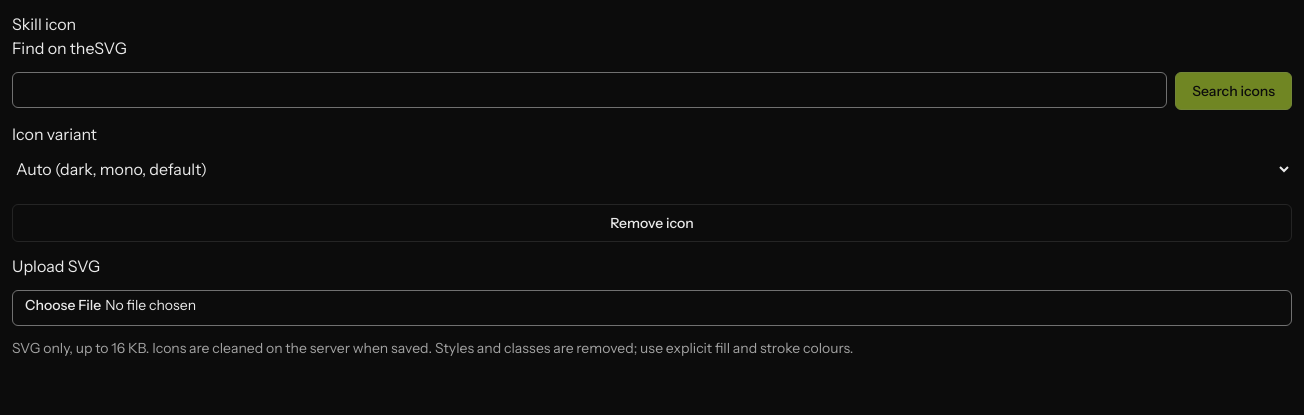
Test: lets an admin request a mono/default variant through the same-origin icon proxy
Later steps or results of the test are not shown.
Type "react" into the field labelled "Find on theSVG" at (590, 90), box [12,72,1167,108]
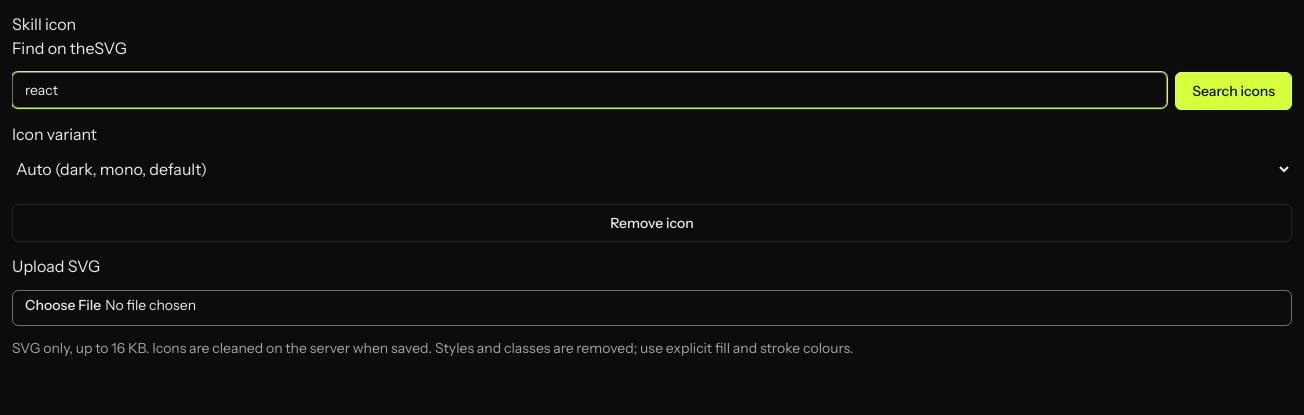
Select "Mono (light)" in the dropdown labelled "Icon variant" at (652, 169), box [12,158,1292,180]
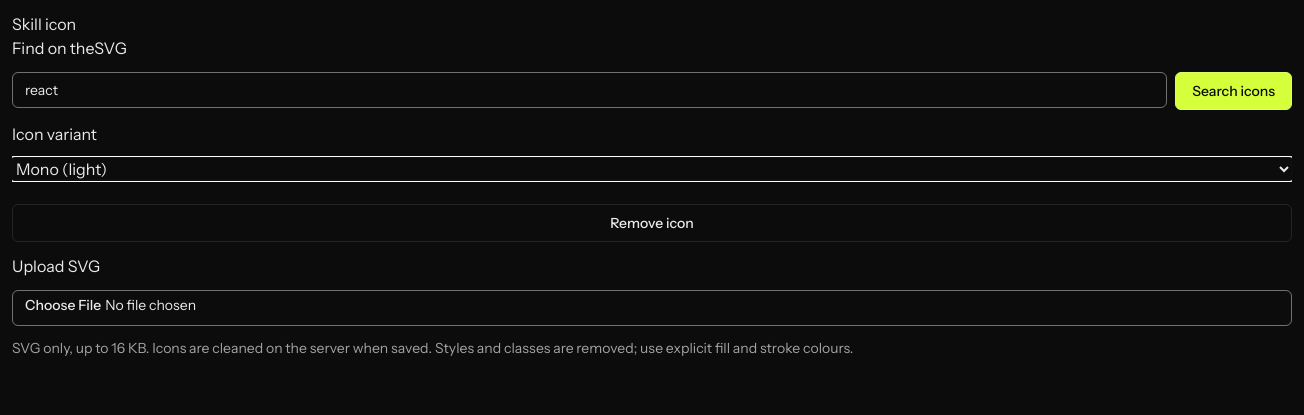
Click the button "Search icons" at (1234, 91), box [1175,72,1292,110]
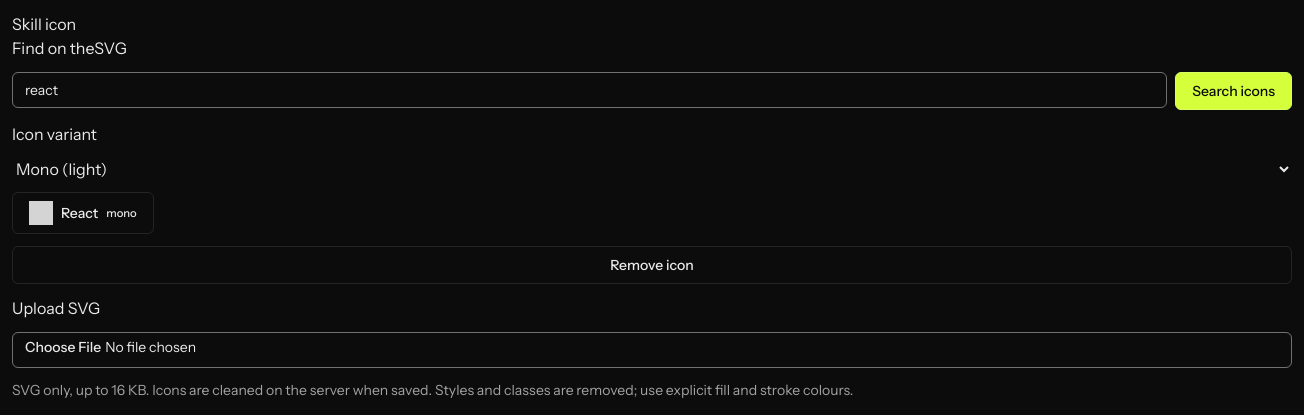
Check: the button with aria-label "Choose React" is shown, box [12,192,154,234]
